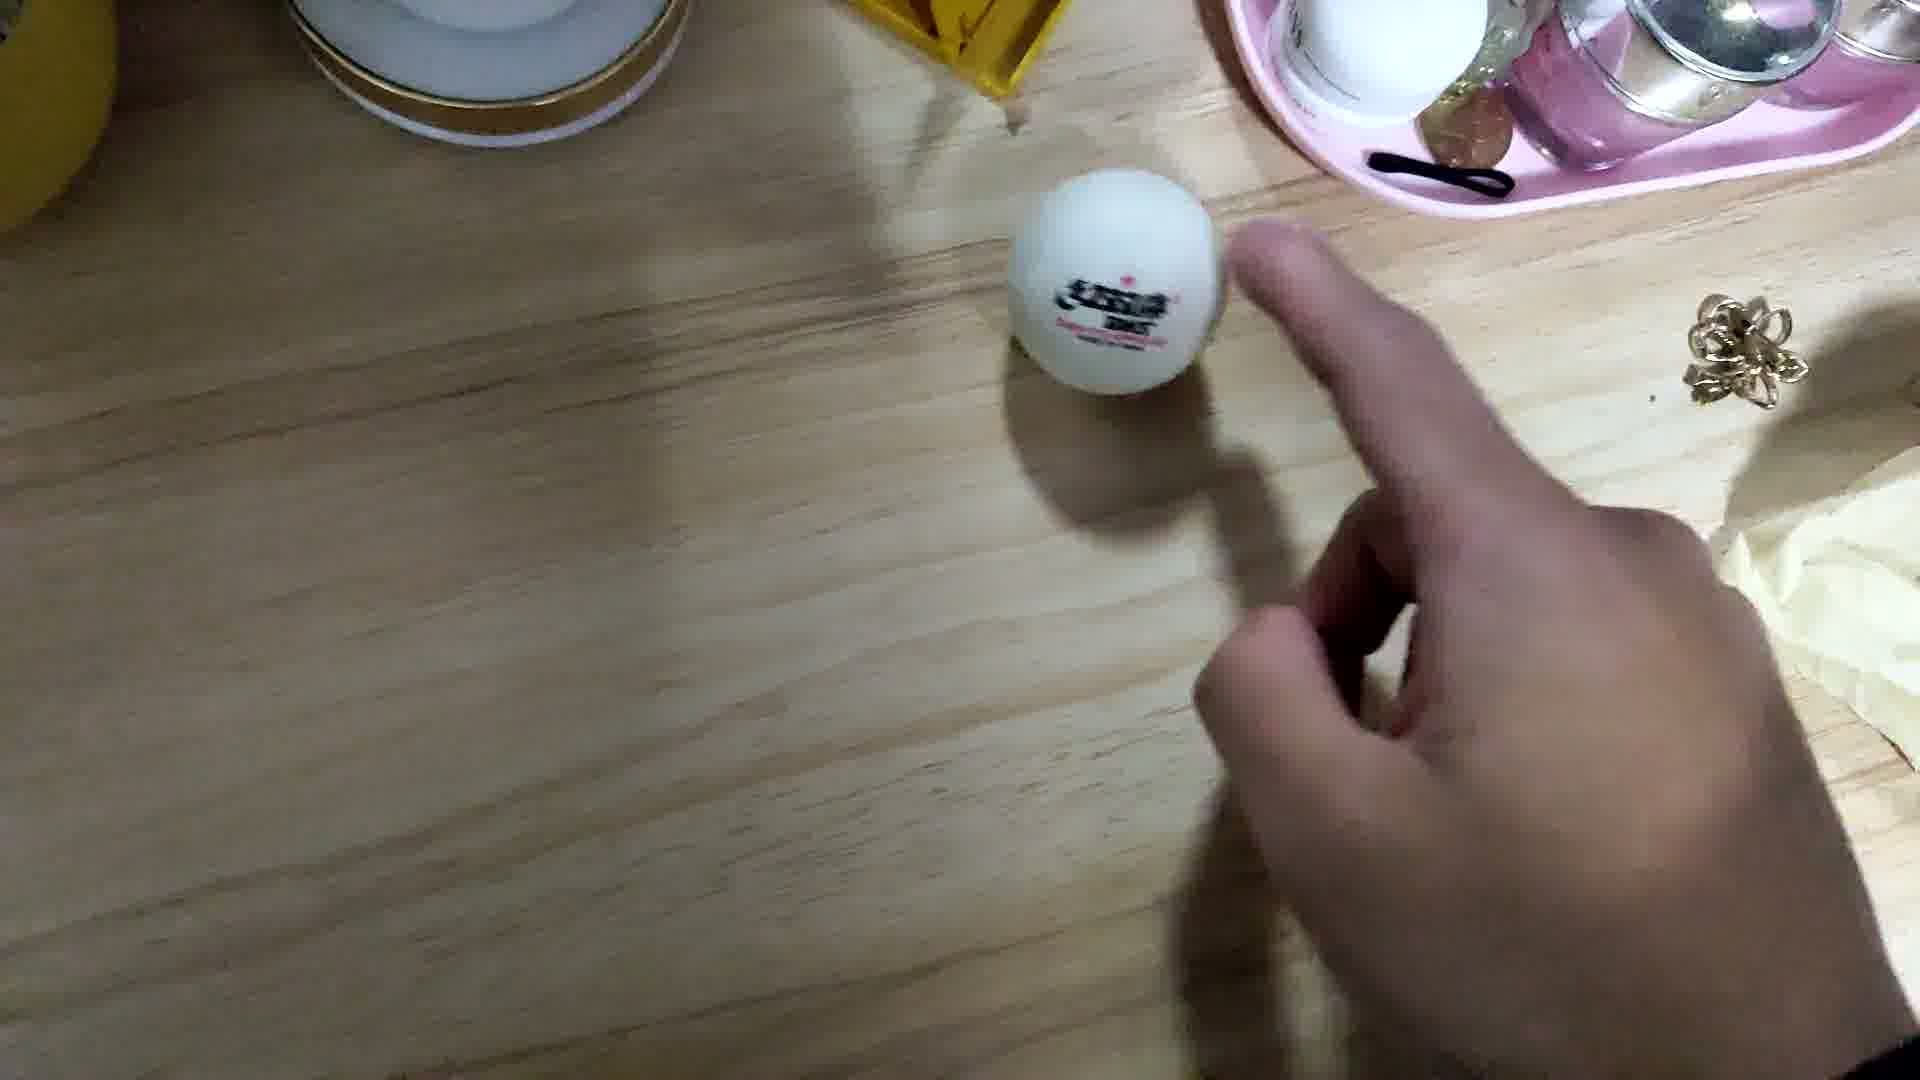Ball: (1009, 169, 1220, 398)
